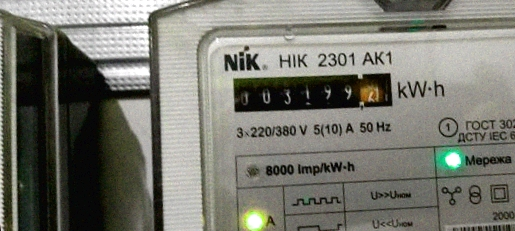0: (235, 86, 251, 107), (258, 84, 272, 105)
1: (300, 80, 311, 100)
3: (280, 86, 291, 106)
6: (364, 88, 376, 105)
9: (320, 81, 332, 100), (341, 82, 353, 101)
screen: (222, 51, 402, 135)
